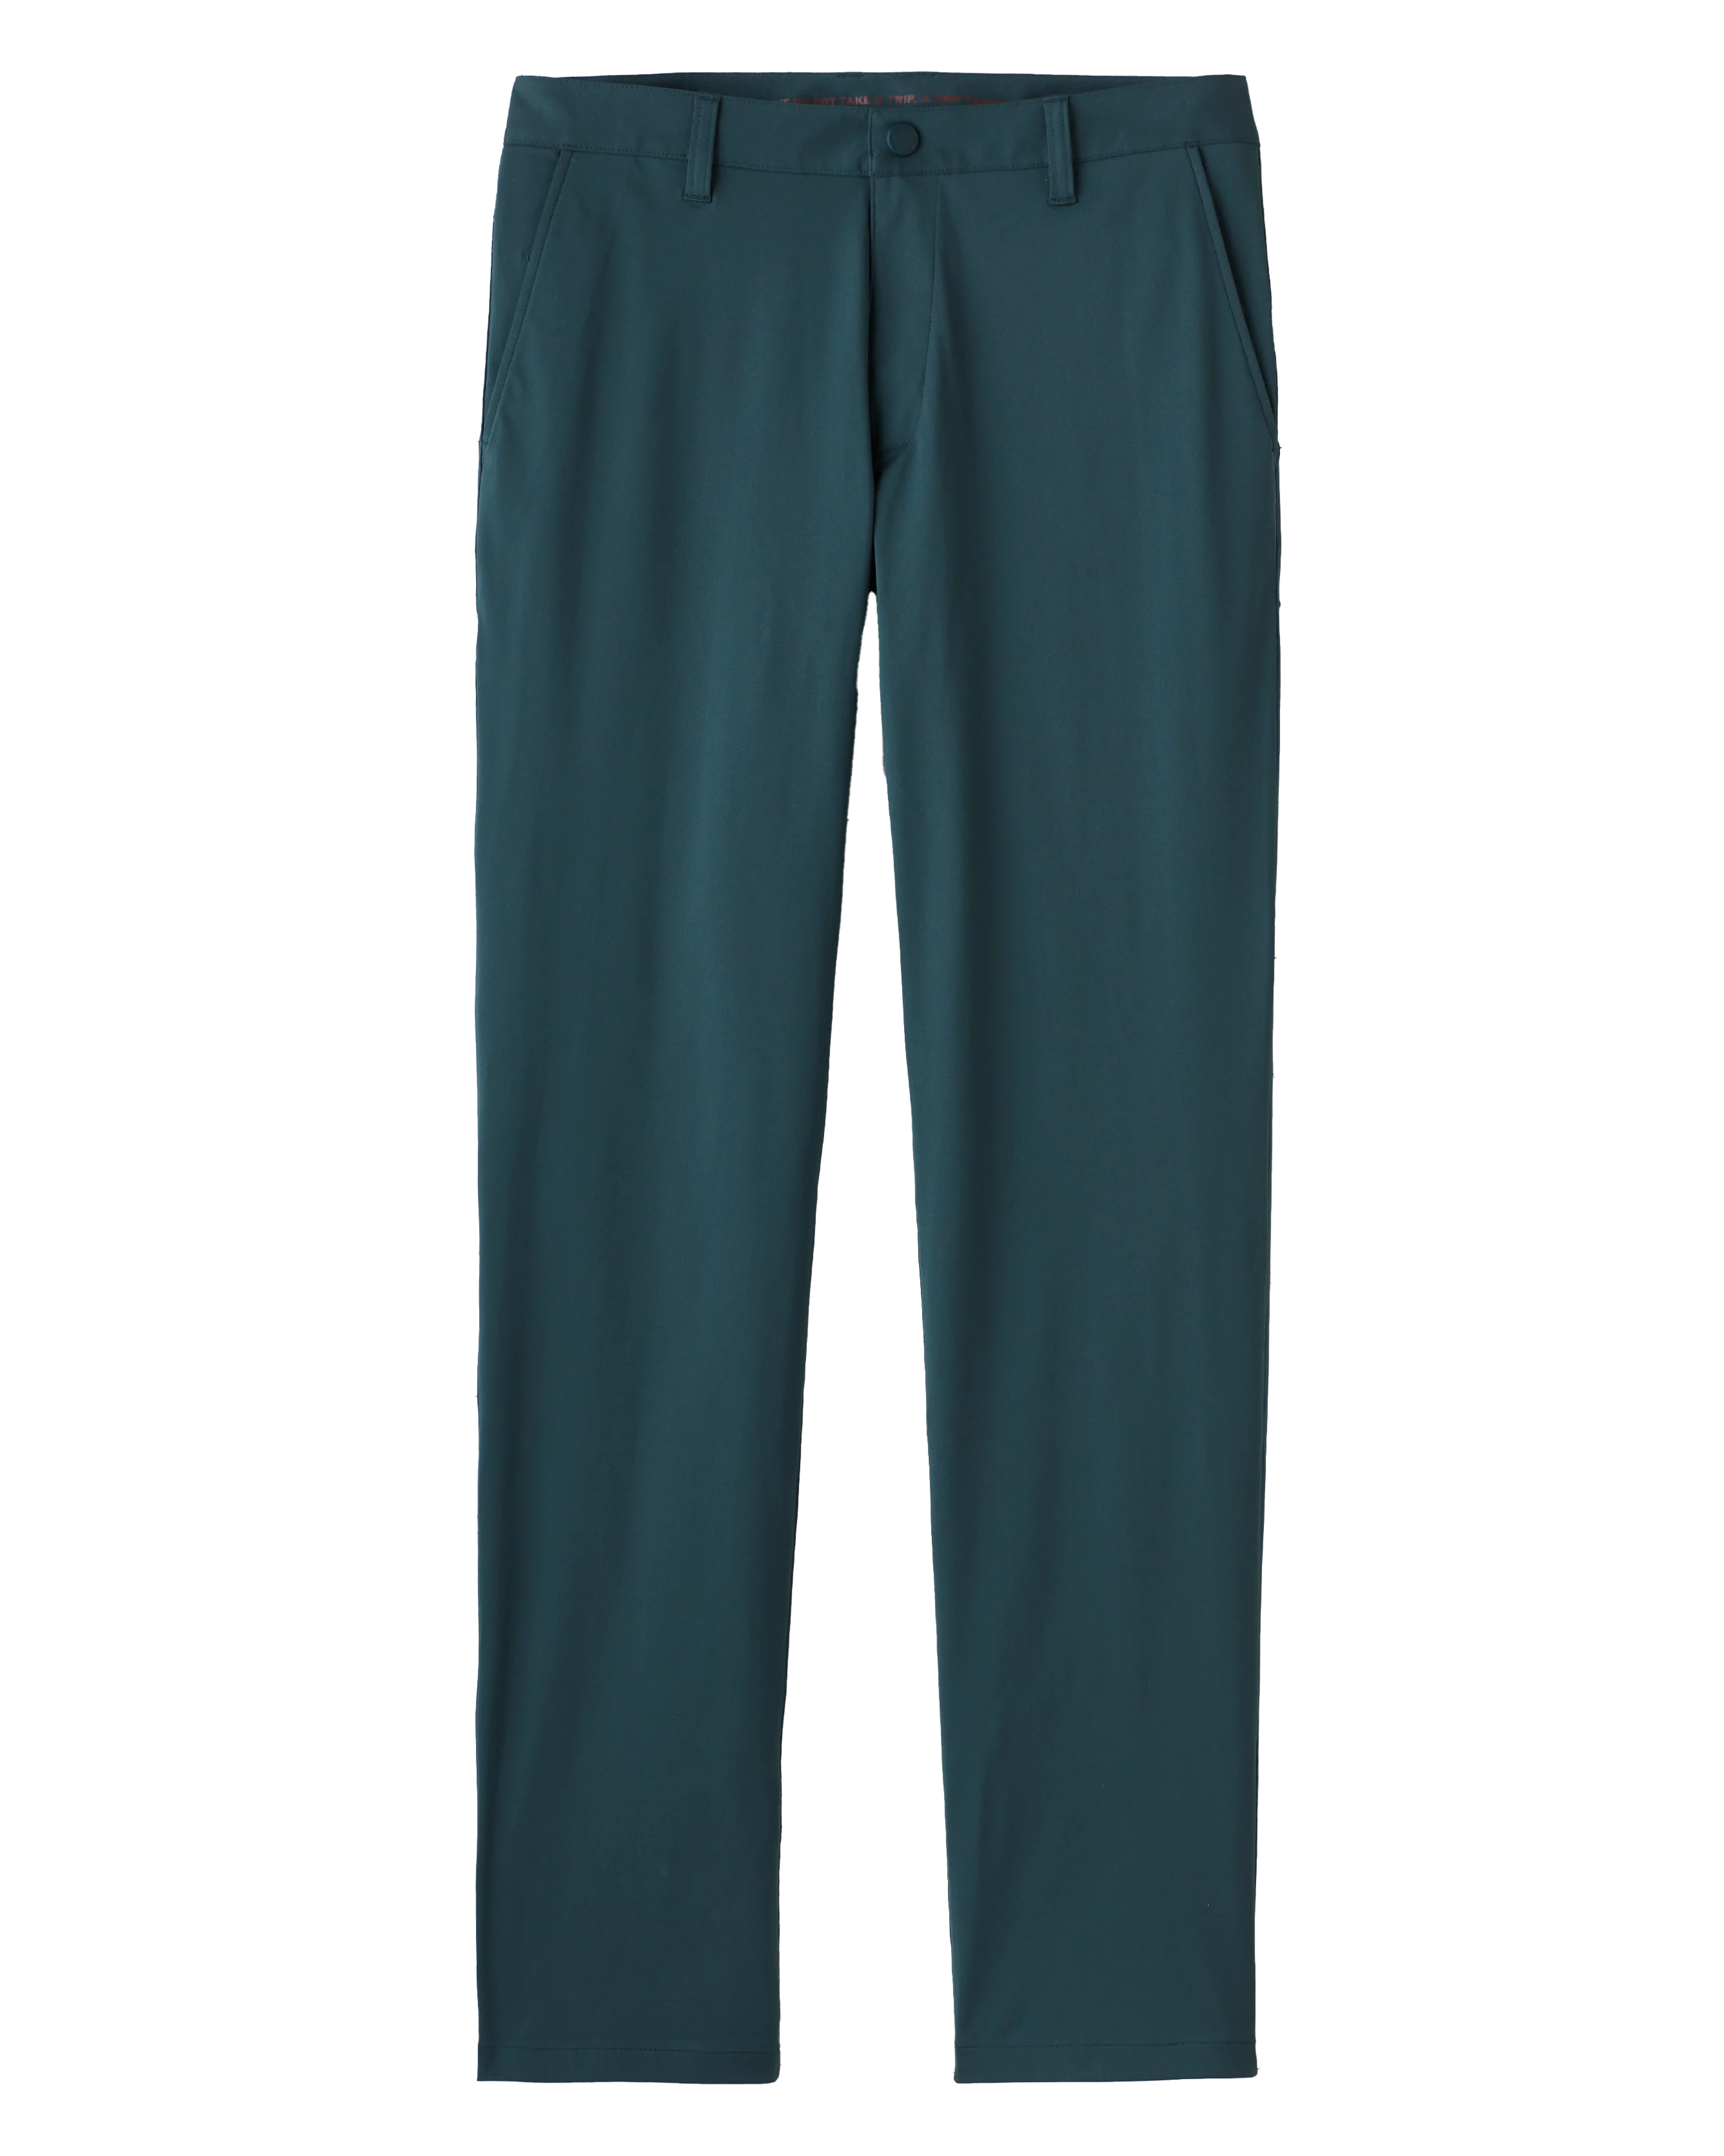pants: (468, 56, 1282, 2096)
